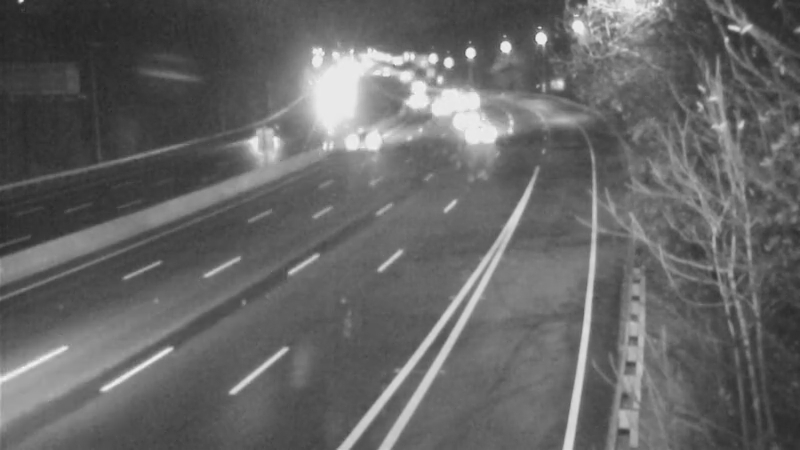vehicle: (391, 75, 441, 125), (438, 75, 488, 125), (417, 81, 467, 131), (435, 93, 485, 143), (452, 111, 502, 161), (346, 114, 396, 164), (219, 123, 269, 173)
